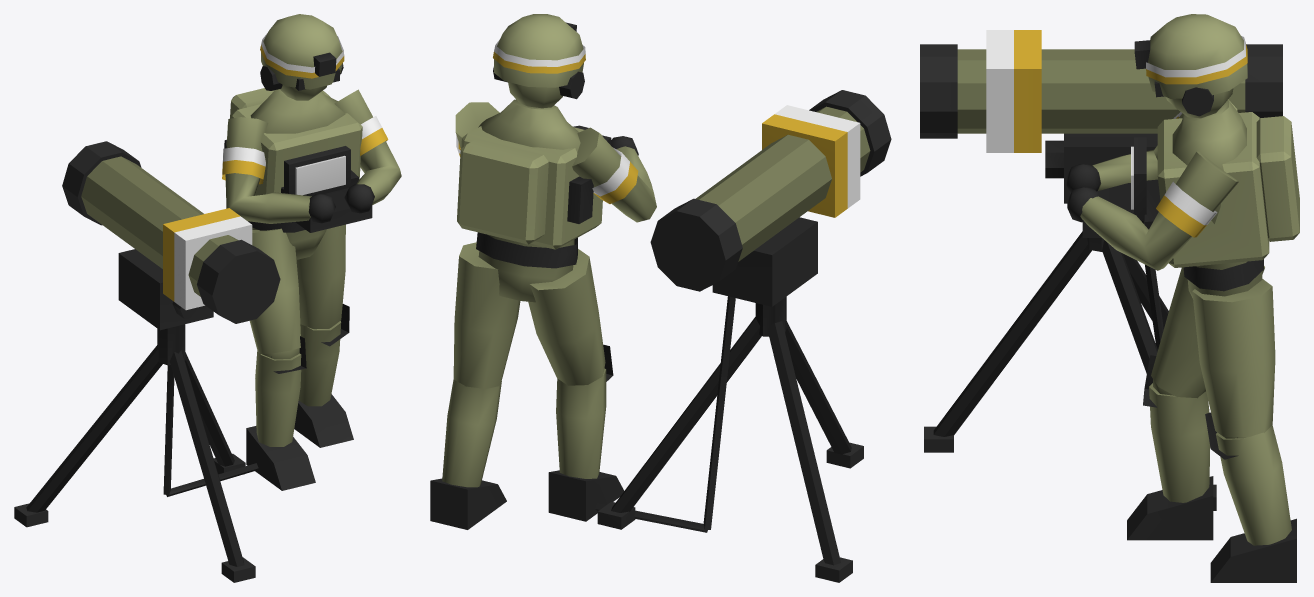
Rendered from ua-stugna-team.glb.
3 renders of one model, left to right at view 1: azimuth 30°, elevation 25°; view 2: azimuth 150°, elevation 25°; view 3: azimuth 270°, elevation 25°, orthographic. The views are drawn at different scales.
Parts seen in each view (by area): view 1: limb_x_canister, limb_o_hips, limb_o_arms, limb_x_tripod, limb_o_shin_l, limb_o_shin_r, limb_o_thigh_l, limb_x_launcher, limb_o_thigh_r, limb_x_cable; view 2: limb_o_hips, limb_x_canister, limb_x_tripod, limb_o_shin_r, limb_o_shin_l, limb_o_thigh_l, limb_o_thigh_r, limb_x_launcher, limb_o_arms, limb_x_cable; view 3: limb_o_hips, limb_x_canister, limb_o_arms, limb_o_thigh_r, limb_o_shin_r, limb_o_shin_l, limb_x_tripod, limb_o_thigh_l, limb_x_launcher, limb_x_cable.
Boxes of the visible parts, bbox=[...] form: limb_x_canister: bbox=[62, 141, 280, 323]; limb_o_hips: bbox=[224, 14, 362, 259]; limb_o_arms: bbox=[222, 89, 401, 232]; limb_x_tripod: bbox=[14, 345, 255, 582]; limb_o_shin_l: bbox=[246, 350, 315, 490]; limb_o_shin_r: bbox=[294, 321, 353, 447]; limb_o_thigh_l: bbox=[249, 228, 306, 373]; limb_x_launcher: bbox=[118, 249, 213, 365]; limb_o_thigh_r: bbox=[296, 224, 349, 346]; limb_x_cable: bbox=[163, 365, 258, 496]; limb_o_hips: bbox=[457, 14, 602, 302]; limb_x_canister: bbox=[650, 90, 891, 291]; limb_x_tripod: bbox=[597, 317, 863, 582]; limb_o_shin_r: bbox=[430, 379, 506, 529]; limb_o_shin_l: bbox=[548, 368, 623, 521]; limb_o_thigh_l: bbox=[528, 249, 613, 385]; limb_o_thigh_r: bbox=[453, 242, 520, 389]; limb_x_launcher: bbox=[712, 217, 817, 336]; limb_o_arms: bbox=[455, 102, 656, 222]; limb_x_cable: bbox=[595, 296, 735, 532]; limb_o_hips: bbox=[1134, 14, 1299, 298]; limb_x_canister: bbox=[920, 30, 1282, 152]; limb_o_arms: bbox=[1066, 99, 1238, 270]; limb_o_thigh_r: bbox=[1192, 279, 1275, 459]; limb_o_shin_r: bbox=[1210, 425, 1296, 582]; limb_o_shin_l: bbox=[1127, 383, 1213, 540]; limb_x_tripod: bbox=[924, 231, 1216, 510]; limb_o_thigh_l: bbox=[1143, 266, 1264, 407]; limb_x_launcher: bbox=[1045, 133, 1157, 251]; limb_x_cable: bbox=[1141, 221, 1163, 349].
Bounding box in the file's own units: 0.4011 × 0.4671 × 0.3035.
